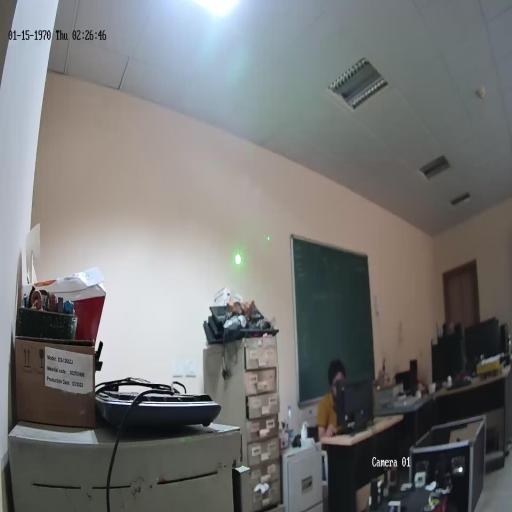laser: (234, 250, 242, 268)
